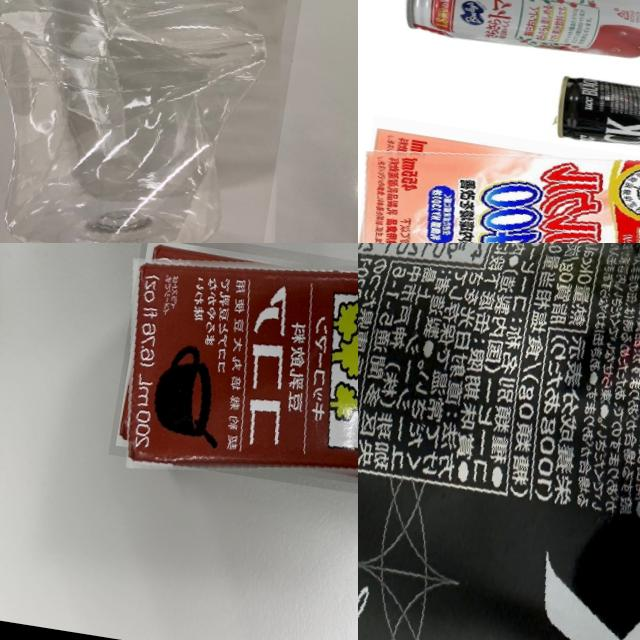Aluminium Foil: (108, 243, 358, 508), (358, 113, 640, 243)
Can: (358, 243, 640, 640), (396, 0, 640, 71), (554, 68, 640, 171)
Transparent Plastic Bottle: (0, 0, 333, 243)
